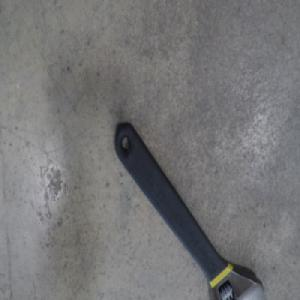AdjustableWrench: (113, 122, 267, 300)
